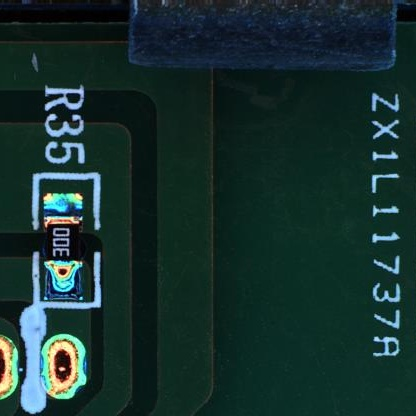spot: (39, 333, 88, 399), (1, 335, 20, 401)
